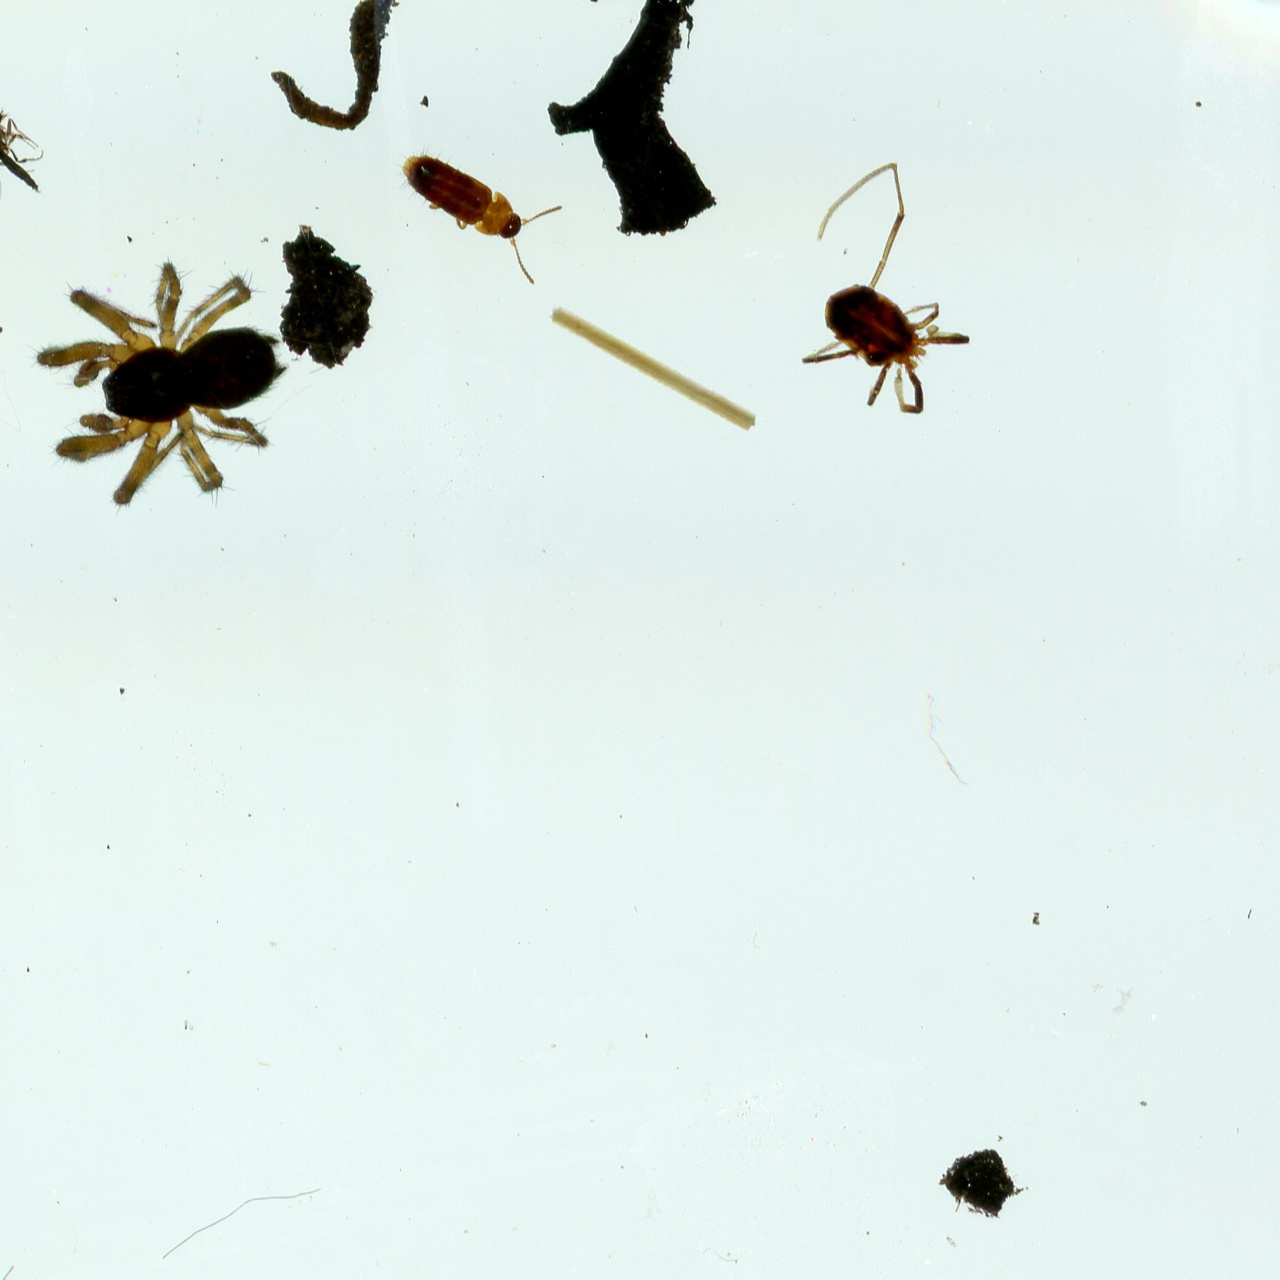arthropod: (17, 249, 292, 518), (791, 156, 974, 420), (365, 123, 577, 292), (0, 100, 56, 210)
